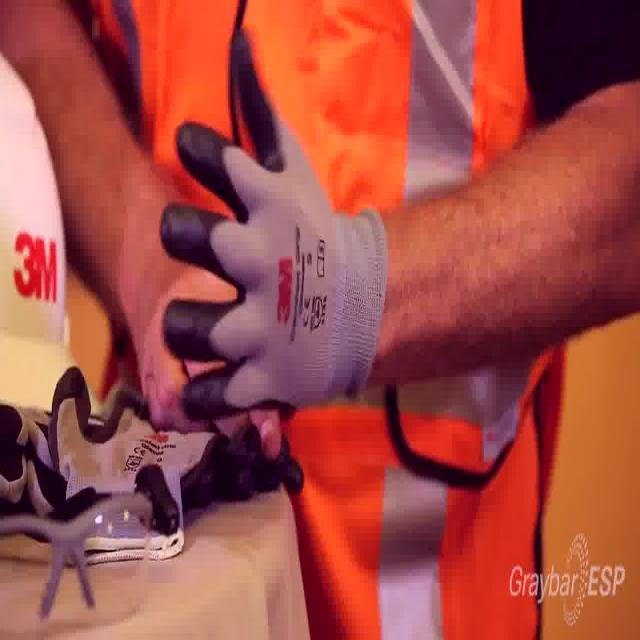gloves: (154, 27, 393, 430)
